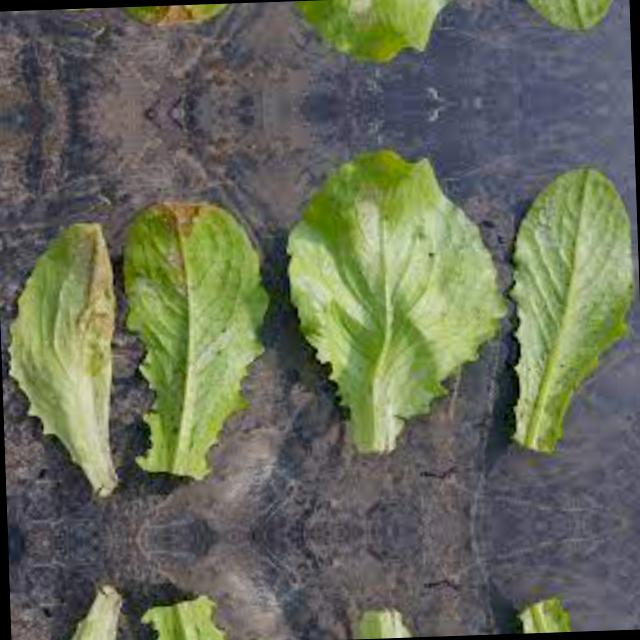Downy_mildew: (276, 143, 505, 456), (500, 165, 636, 458), (271, 0, 491, 66), (292, 603, 511, 640), (515, 590, 640, 633), (494, 0, 621, 31)
Lettuce - Anthracnose: (6, 203, 140, 500), (120, 193, 263, 468), (19, 582, 144, 640), (134, 606, 269, 640), (113, 2, 248, 30), (0, 7, 123, 28)
